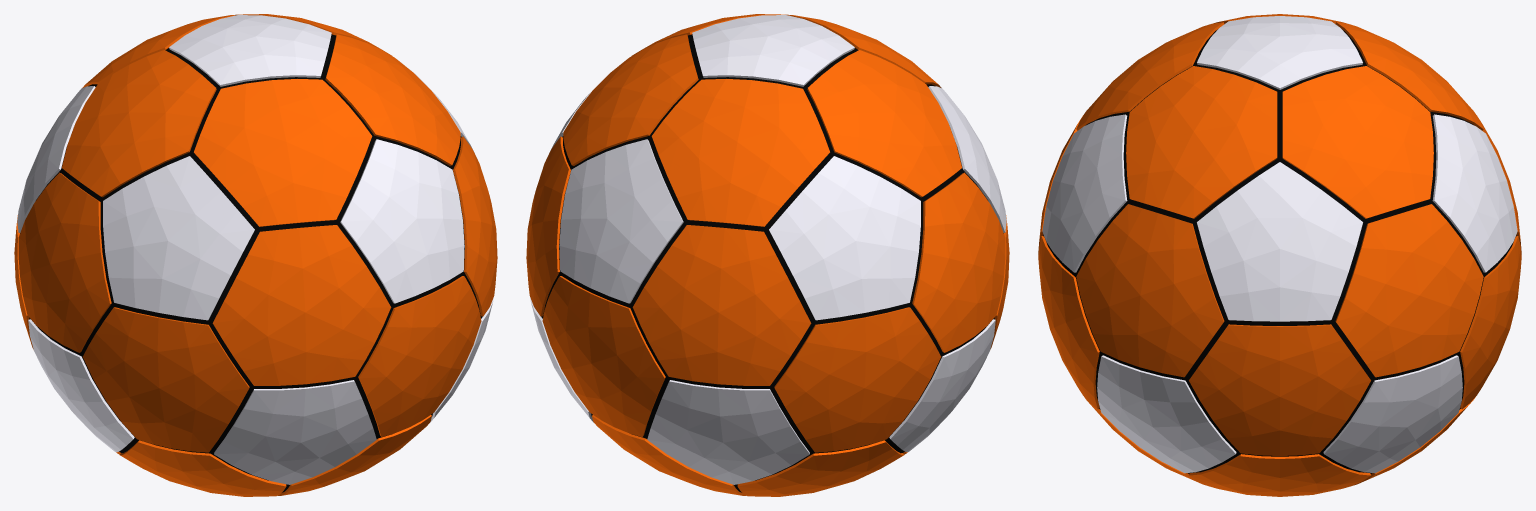
Rendered from Football 1.dae.
The picture shows the model from 3 angles, left to right: view 1: azimuth 30°, elevation 25°; view 2: azimuth 150°, elevation 25°; view 3: azimuth 270°, elevation 25°; orthographic projection.
Visible parts, largest first — view 1: Icosphere; view 2: Icosphere; view 3: Icosphere.
Boxes of the visible parts, box(x1,y1,x2,y2) form: Icosphere: box(14, 14, 497, 496); Icosphere: box(526, 14, 1009, 496); Icosphere: box(1038, 14, 1521, 496).
Size of the model in its own units: 1.69 by 1.69 by 1.69.
